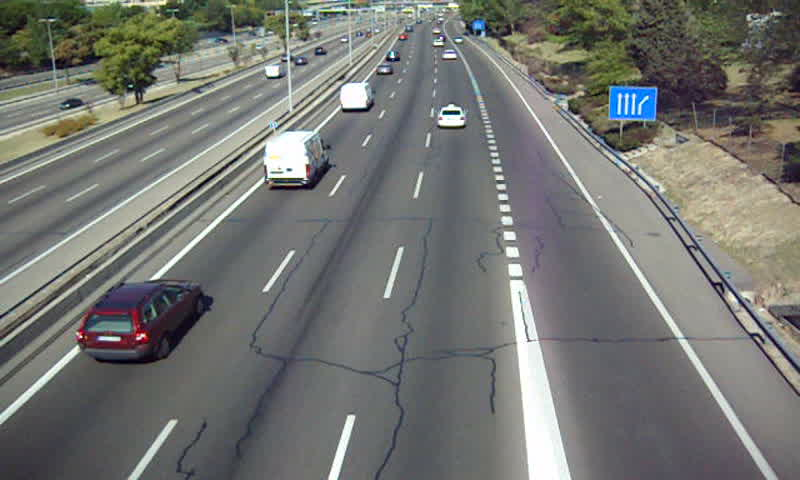car: (76, 281, 202, 359), (436, 106, 465, 129), (375, 64, 393, 76), (442, 50, 458, 62), (386, 50, 400, 63)
van: (264, 131, 331, 186), (339, 83, 372, 111)
